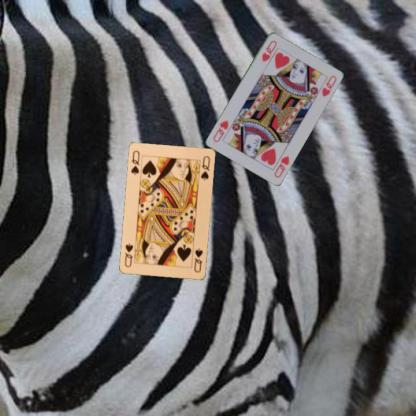Qh: (259, 38, 278, 63), (272, 153, 290, 179)
Qs: (192, 246, 204, 274), (129, 148, 141, 176)
